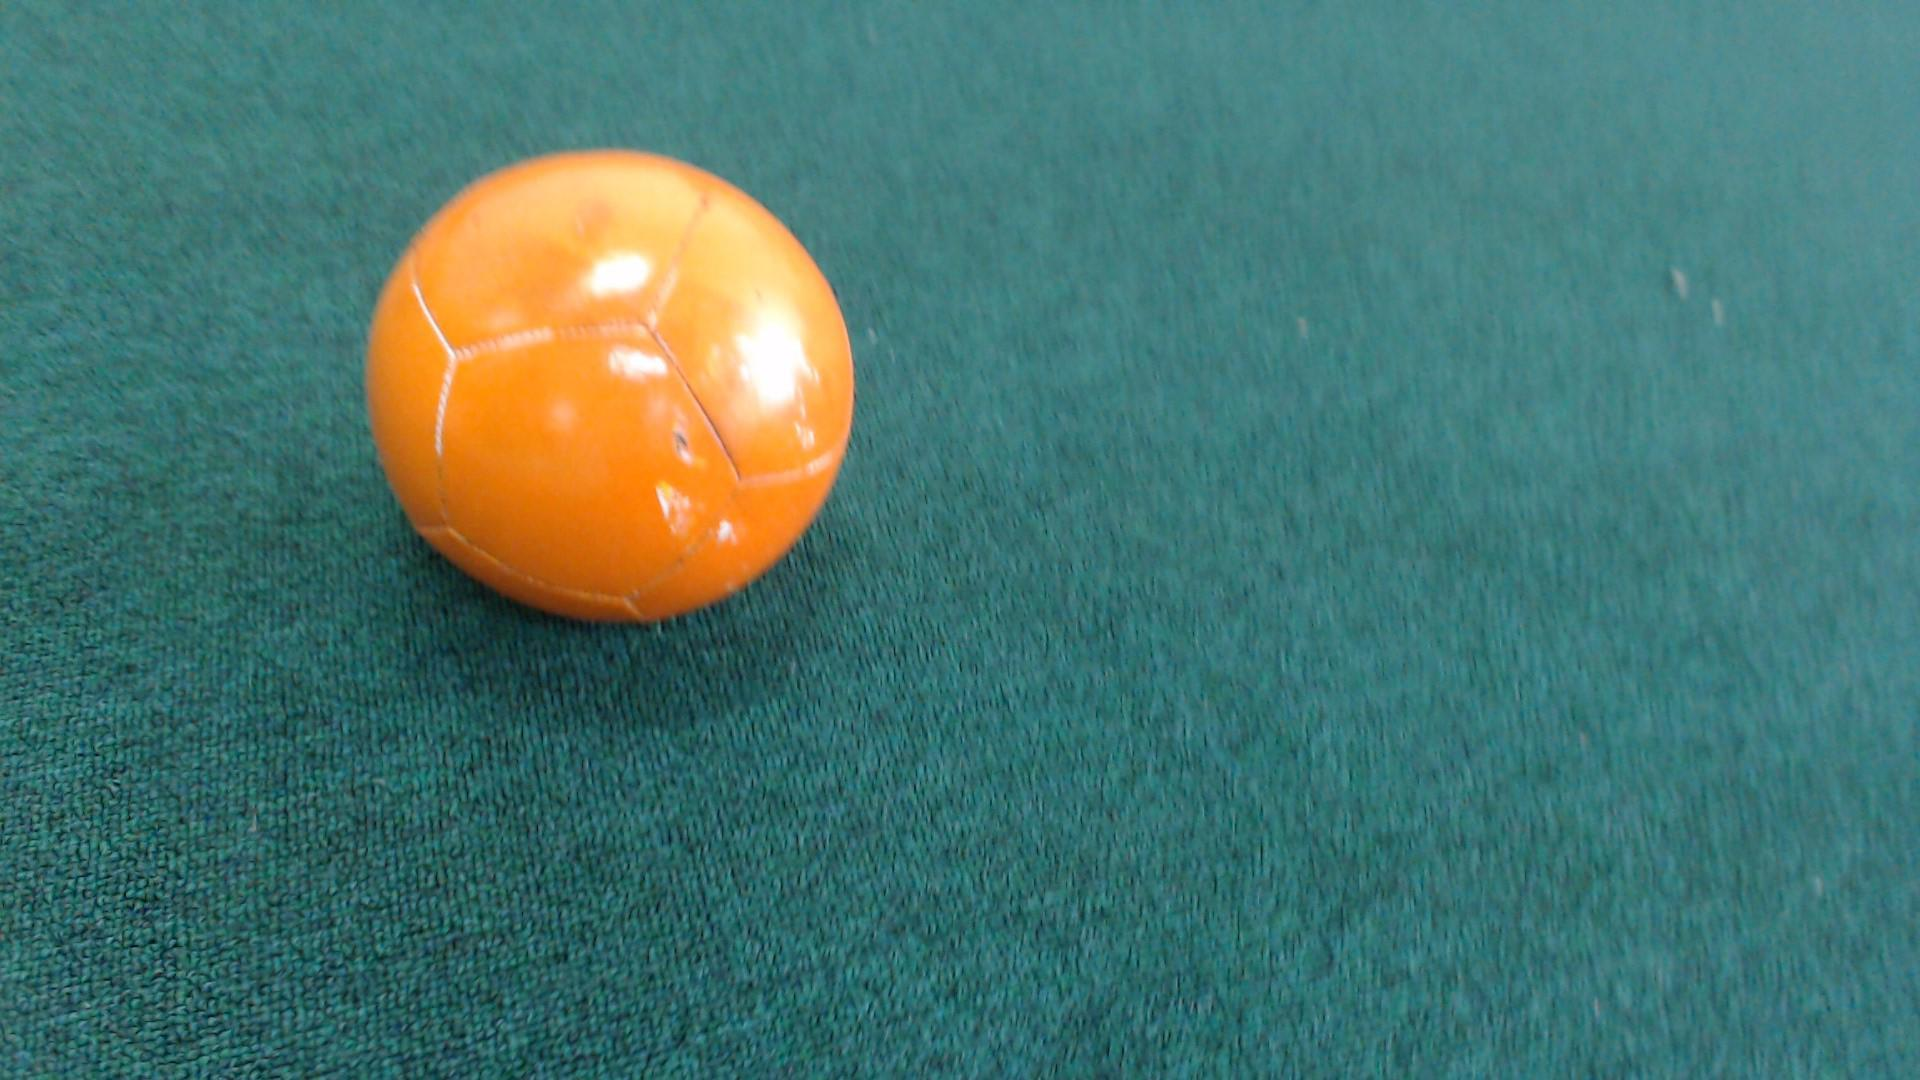bola: (342, 125, 885, 653)
